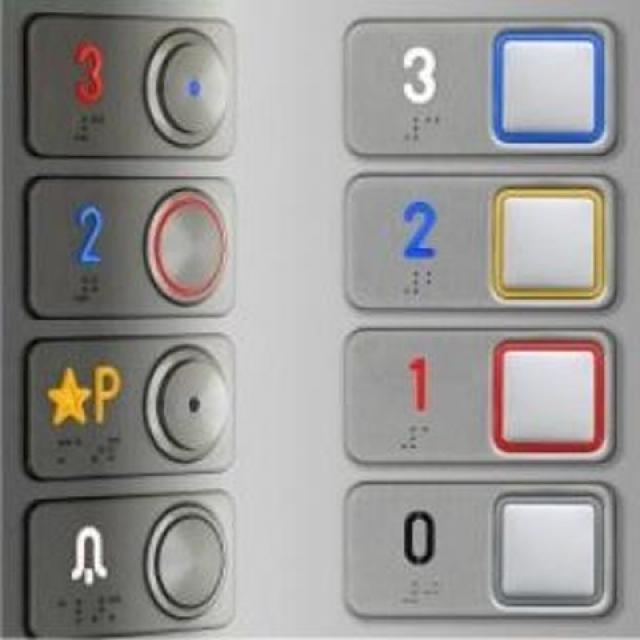0: (335, 472, 620, 624)
1: (333, 320, 620, 469)
2: (335, 164, 620, 316), (16, 171, 239, 324)
3: (335, 8, 624, 163), (16, 11, 239, 160)
alarm: (17, 484, 239, 639)
sP: (15, 327, 238, 485)
